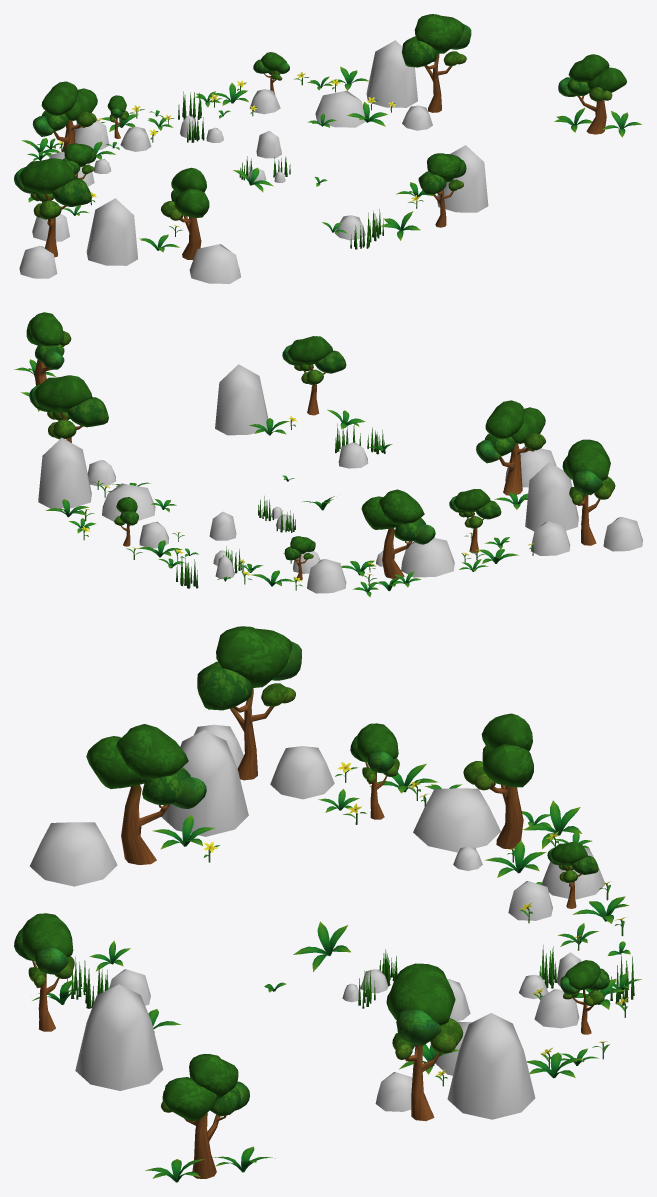
Rendered from Asset_Plants_Ground.fbx.
3 views of the same model, one above another, from view 1: azimuth 30°, elevation 25°; view 2: azimuth 150°, elevation 25°; view 3: azimuth 270°, elevation 25° (orthographic). The views are drawn at different scales.
Parts seen in each view (by area): view 1: polySurface581; view 2: polySurface581; view 3: polySurface581.
Part boxes in pixels (x1,y1,x2,y2): polySurface581: [14, 14, 642, 283]; polySurface581: [14, 312, 642, 597]; polySurface581: [14, 626, 641, 1182].
Size of the model in its own units: 9947 by 1754 by 5768.
